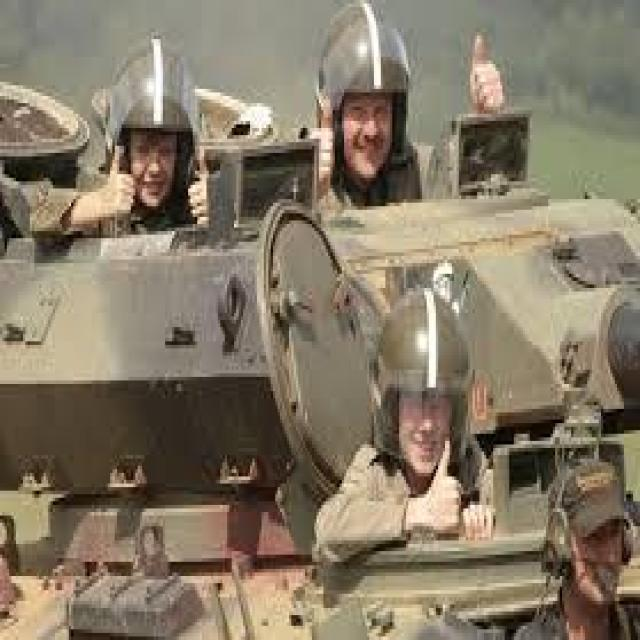Tanks: (30, 172, 548, 638)
